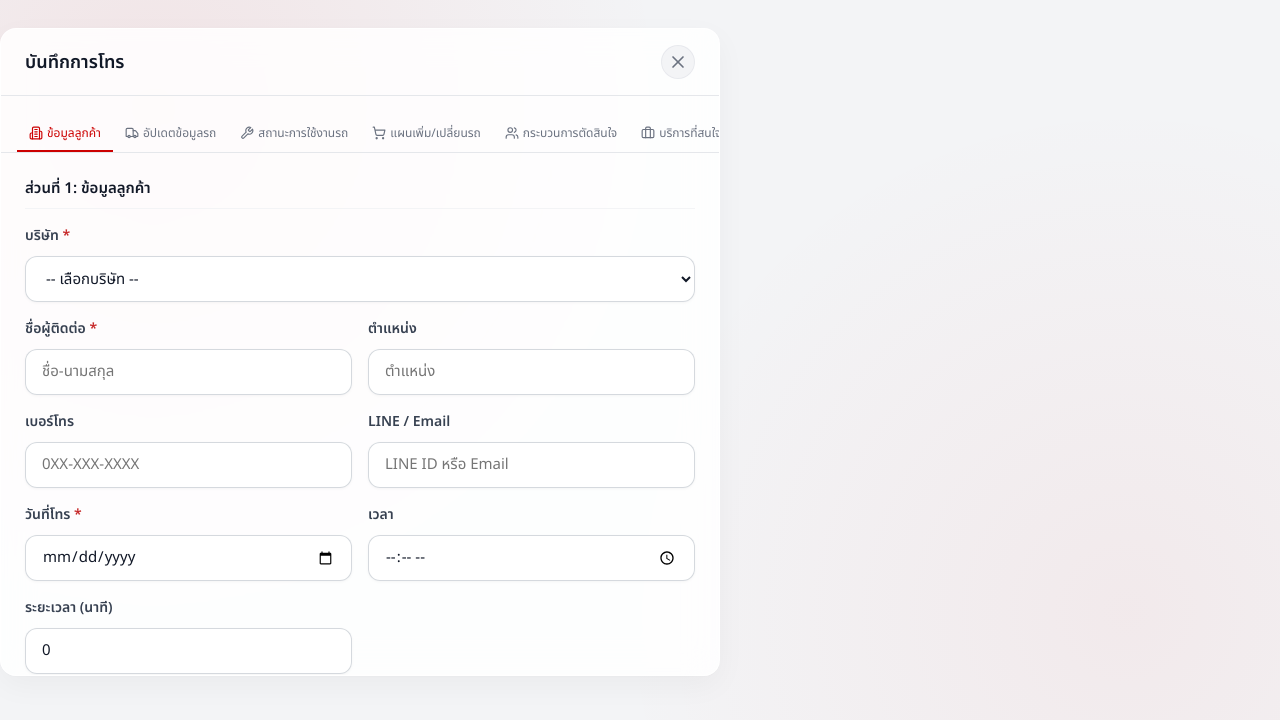
Scenario: CallForm › renders Section 3 fleet count inputs when tab clicked
Step 1. Click the button "อัปเดตข้อมูลรถ" → (171, 134), box [113,116,228,152]
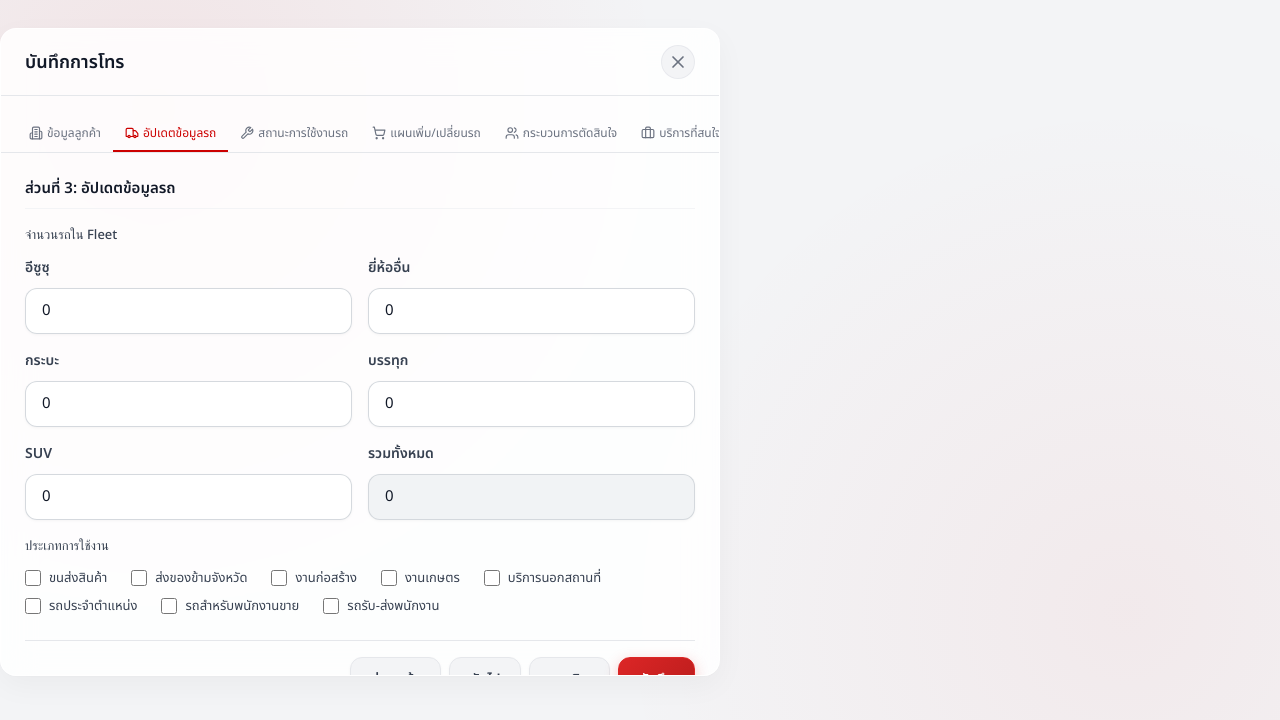
Now the heading "ส่วนที่ 3: อัปเดตข้อมูลรถ" is shown, box [25,177,695,209]
Now the number field labelled "อีซูซุ" is shown, box [25,288,352,334]
Now the number field labelled "ยี่ห้ออื่น" is shown, box [368,288,695,334]
